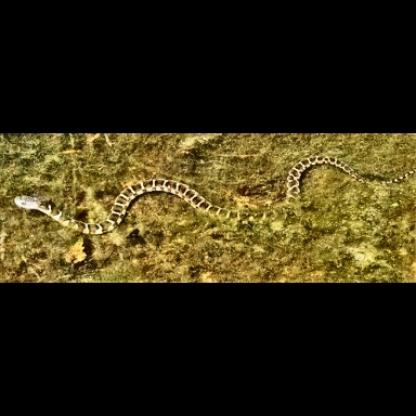Snake: (5, 154, 408, 238)
